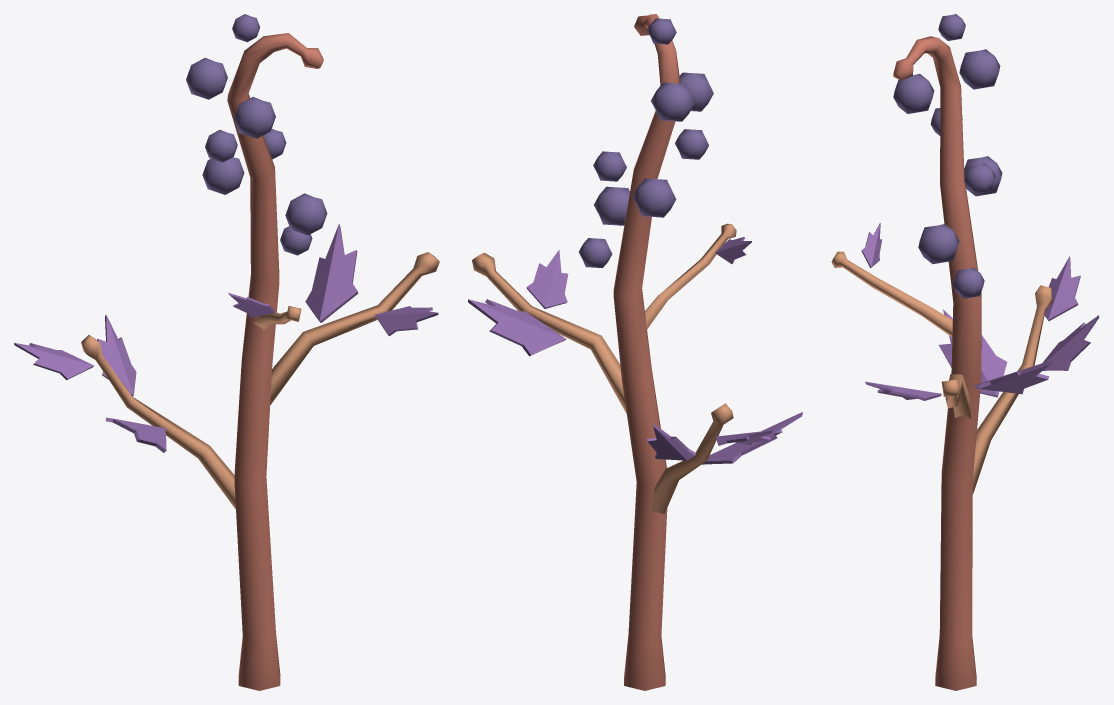
File: asteroidPlant_stage3.fbx
The picture shows the model from 3 angles, left to right: view 1: azimuth 30°, elevation 25°; view 2: azimuth 150°, elevation 25°; view 3: azimuth 270°, elevation 25°; orthographic projection.
Parts seen in each view (by area): view 1: asteroidPlant_stem, asteroidPlant_branch1, asteroidPlant_branch2, asteroidPlant_leaf06, asteroidPlant_leaf04, asteroidPlant_leaf03, asteroidPlant_fruit10, asteroidPlant_fruit3, asteroidPlant_fruit4, asteroidPlant_fruit6, asteroidPlant_leaf05, asteroidPlant_leaf02 (+2 smaller); view 2: asteroidPlant_stem, asteroidPlant_branch1, asteroidPlant_leaf06, asteroidPlant_branch2, asteroidPlant_branch3, asteroidPlant_leaf05, asteroidPlant_fruit6, asteroidPlant_fruit3, asteroidPlant_fruit10, asteroidPlant_leaf02, asteroidPlant_leaf03, asteroidPlant_fruit4 (+6 smaller); view 3: asteroidPlant_stem, asteroidPlant_branch2, asteroidPlant_branch3, asteroidPlant_fruit3, asteroidPlant_fruit10, asteroidPlant_fruit4, asteroidPlant_leaf03, asteroidPlant_leaf04, asteroidPlant_leaf06, asteroidPlant_leaf02, asteroidPlant_branch1, asteroidPlant_fruit11 (+5 smaller).
Part boxes in pixels (x1=…): asteroidPlant_stem: x1=227, y1=33, x2=323, y2=690; asteroidPlant_branch1: x1=270, y1=252, x2=439, y2=404; asteroidPlant_branch2: x1=81, y1=335, x2=235, y2=509; asteroidPlant_leaf06: x1=305, y1=223, x2=358, y2=322; asteroidPlant_leaf04: x1=14, y1=343, x2=93, y2=380; asteroidPlant_leaf03: x1=97, y1=314, x2=136, y2=396; asteroidPlant_fruit10: x1=285, y1=193, x2=327, y2=235; asteroidPlant_fruit3: x1=186, y1=57, x2=227, y2=99; asteroidPlant_fruit4: x1=234, y1=97, x2=275, y2=138; asteroidPlant_fruit6: x1=202, y1=157, x2=244, y2=194; asteroidPlant_leaf05: x1=375, y1=306, x2=438, y2=336; asteroidPlant_leaf02: x1=105, y1=417, x2=166, y2=452; asteroidPlant_stem: x1=613, y1=14, x2=680, y2=690; asteroidPlant_branch1: x1=472, y1=252, x2=626, y2=413; asteroidPlant_leaf06: x1=468, y1=299, x2=565, y2=356; asteroidPlant_branch2: x1=651, y1=403, x2=733, y2=513; asteroidPlant_branch3: x1=645, y1=223, x2=736, y2=329; asteroidPlant_leaf05: x1=526, y1=250, x2=568, y2=308; asteroidPlant_fruit6: x1=632, y1=178, x2=676, y2=217; asteroidPlant_fruit3: x1=651, y1=82, x2=694, y2=121; asteroidPlant_fruit10: x1=594, y1=186, x2=629, y2=225; asteroidPlant_leaf02: x1=702, y1=412, x2=802, y2=464; asteroidPlant_leaf03: x1=646, y1=423, x2=695, y2=460; asteroidPlant_fruit4: x1=679, y1=72, x2=713, y2=111; asteroidPlant_stem: x1=893, y1=36, x2=981, y2=690; asteroidPlant_branch2: x1=972, y1=285, x2=1052, y2=494; asteroidPlant_branch3: x1=831, y1=251, x2=952, y2=336; asteroidPlant_fruit3: x1=959, y1=49, x2=1000, y2=89; asteroidPlant_fruit10: x1=918, y1=224, x2=959, y2=264; asteroidPlant_fruit4: x1=893, y1=74, x2=934, y2=113; asteroidPlant_leaf03: x1=1042, y1=315, x2=1099, y2=370; asteroidPlant_leaf04: x1=1044, y1=256, x2=1080, y2=321; asteroidPlant_leaf06: x1=975, y1=360, x2=1052, y2=394; asteroidPlant_leaf02: x1=939, y1=309, x2=1007, y2=397; asteroidPlant_branch1: x1=941, y1=374, x2=971, y2=418; asteroidPlant_fruit11: x1=953, y1=267, x2=984, y2=298.
Size of the model in its own units: 5.99 by 10.59 by 3.91.
